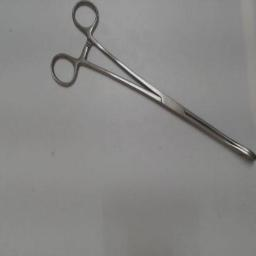Sponge Forceps: (46, 1, 256, 165)
